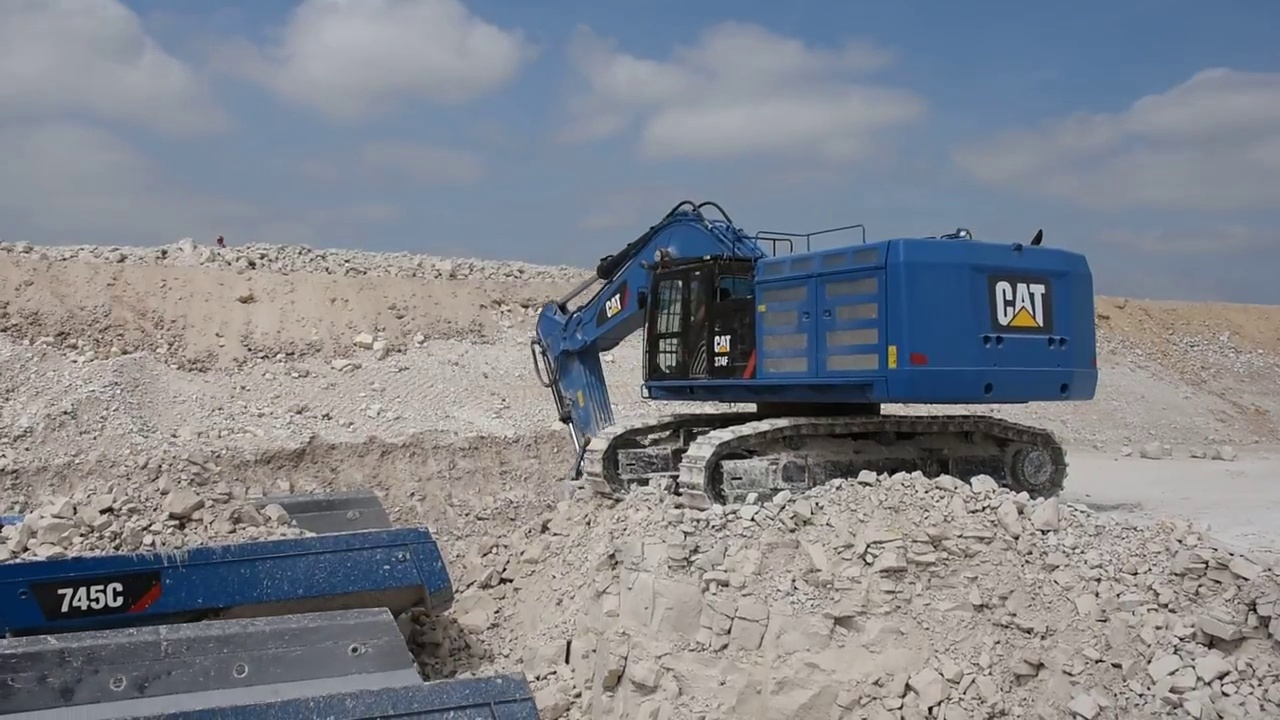excavator: (530, 203, 1098, 510)
truck: (2, 486, 540, 720)
